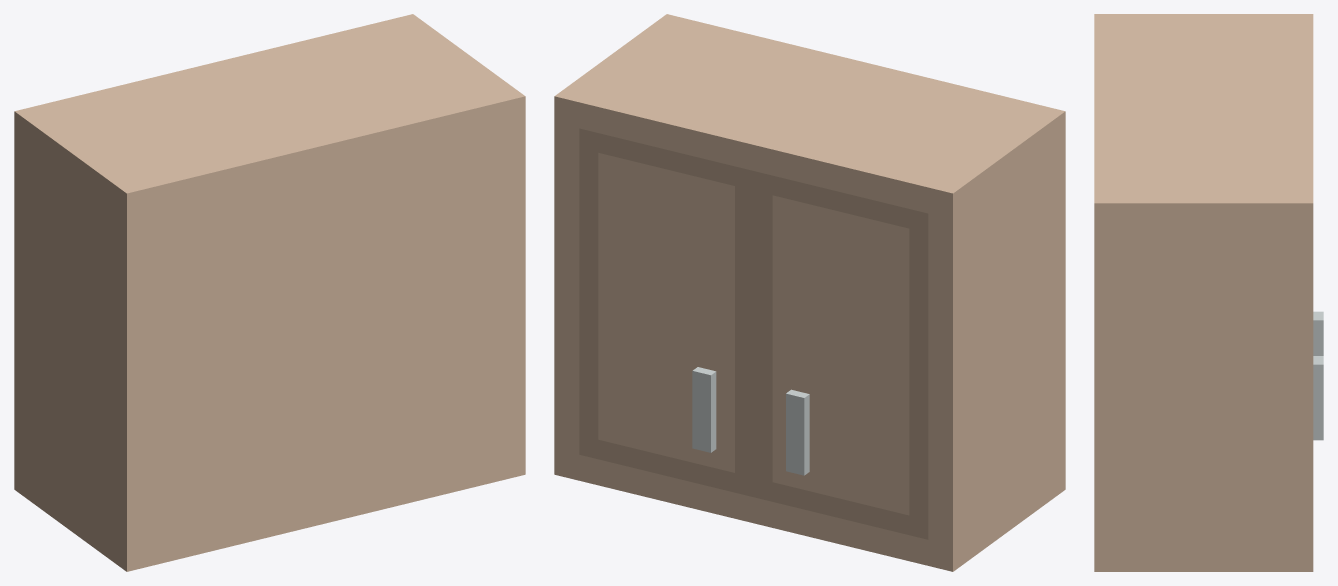
File: kitchen_upper.glb
The picture shows the model from 3 angles, left to right: view 1: azimuth 30°, elevation 25°; view 2: azimuth 150°, elevation 25°; view 3: azimuth 270°, elevation 25°; orthographic projection. The views are drawn at different scales.
Parts seen in each view (by area): view 1: kitchenCabinetUpperDouble(Clone); view 2: kitchenCabinetUpperDouble(Clone), doorRight, doorLeft; view 3: kitchenCabinetUpperDouble(Clone), doorLeft, doorRight.
Part boxes in pixels (x1,y1,x2,y2): kitchenCabinetUpperDouble(Clone): [14, 14, 525, 571]; kitchenCabinetUpperDouble(Clone): [554, 14, 1065, 571]; doorRight: [753, 171, 928, 539]; doorLeft: [579, 128, 753, 496]; kitchenCabinetUpperDouble(Clone): [1094, 14, 1313, 571]; doorLeft: [1313, 356, 1323, 440]; doorRight: [1313, 311, 1323, 355].
Size of the model in its own units: 0.903 by 0.819 by 0.462.
